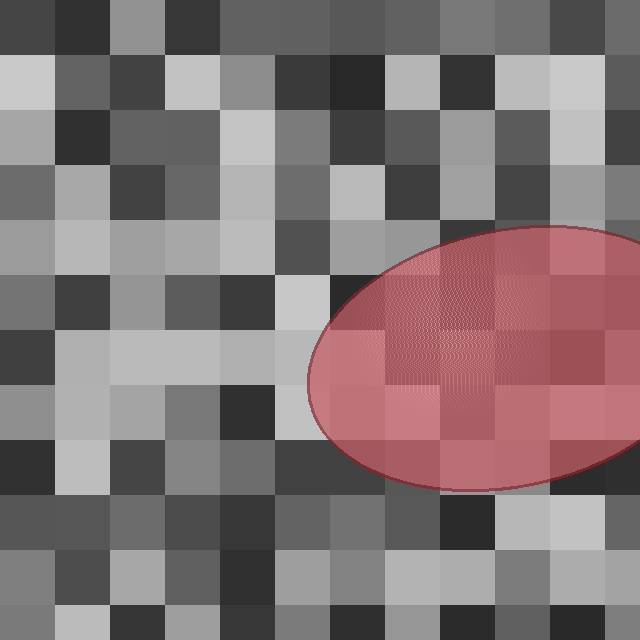lens: (309, 226, 640, 490)
